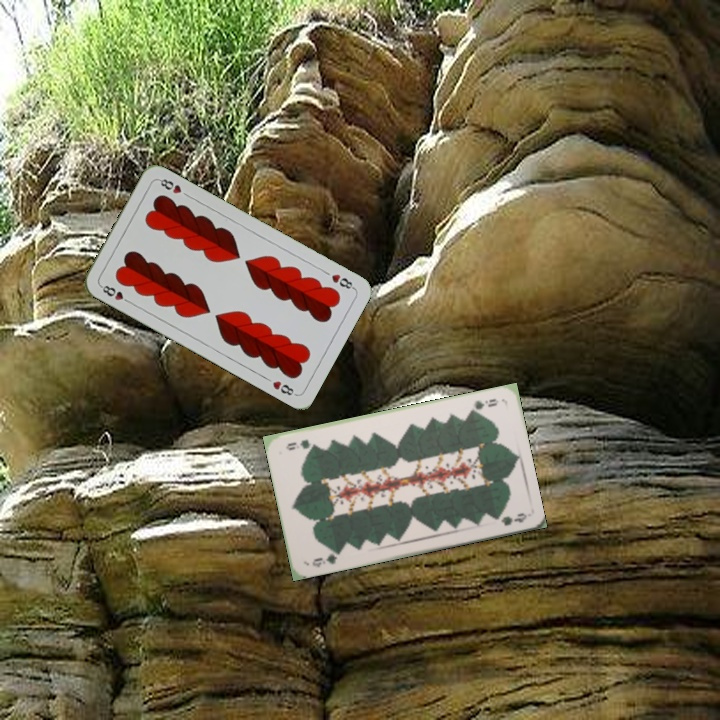G9: (308, 546, 343, 570), (465, 395, 499, 416)
H8: (96, 281, 134, 306), (327, 270, 357, 292)
